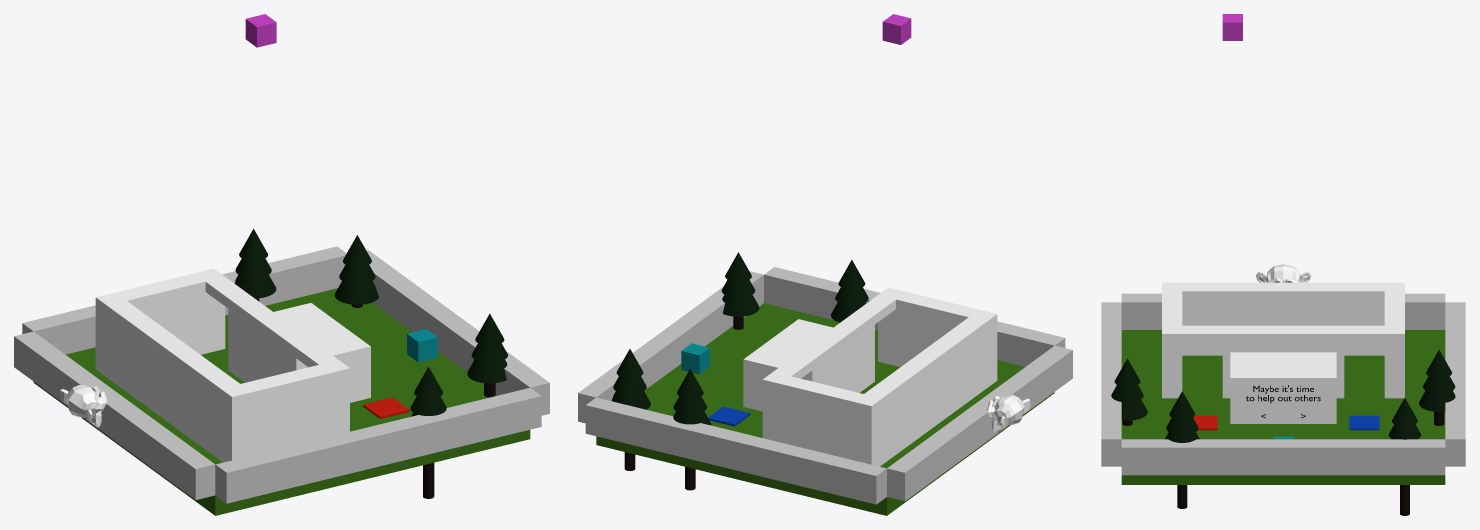
The model's file is world.obj.
3 renders of one model, left to right at view 1: azimuth 30°, elevation 25°; view 2: azimuth 150°, elevation 25°; view 3: azimuth 270°, elevation 25°, orthographic. The views are drawn at different scales.
Parts seen in each view (by area): view 1: Floor.001_Cube.002, Floor.002_Cube.009, Boundary.001_Cube.000, Boundary.002_Cube.005, Floor.003_Cube.012, Boundary.003_Cube.004, Boundary.004_Cube.003, Floor.004_Cube.013, Floor.005_Cube.014, Floor.007_Cube.019, Floor.000_Cube.001, Suzanne (+6 smaller); view 2: Floor.001_Cube.002, Floor.002_Cube.009, Boundary.004_Cube.003, Boundary.002_Cube.005, Floor.004_Cube.013, Boundary.003_Cube.004, Boundary.001_Cube.000, Floor.003_Cube.012, Floor.005_Cube.014, Floor.007_Cube.019, Floor.000_Cube.001, Suzanne (+3 smaller); view 3: Floor.001_Cube.002, Boundary.003_Cube.004, Floor.002_Cube.009, Floor.007_Cube.019, Floor.000_Cube.001, Boundary.001_Cube.000, Boundary.004_Cube.003, Boundary.002_Cube.005, Floor.005_Cube.014, Floor.004_Cube.013, Floor.003_Cube.012, Suzanne (+12 smaller).
Part boxes in pixels (bbox=[...]): Floor.001_Cube.002: bbox=[33, 288, 530, 515]; Floor.002_Cube.009: bbox=[95, 292, 251, 462]; Boundary.001_Cube.000: bbox=[215, 388, 541, 503]; Boundary.002_Cube.005: bbox=[14, 331, 215, 499]; Floor.003_Cube.012: bbox=[241, 360, 349, 455]; Boundary.003_Cube.004: bbox=[366, 250, 549, 415]; Boundary.004_Cube.003: bbox=[22, 246, 346, 354]; Floor.004_Cube.013: bbox=[116, 268, 225, 354]; Floor.005_Cube.014: bbox=[228, 299, 307, 382]; Floor.007_Cube.019: bbox=[273, 303, 370, 402]; Floor.000_Cube.001: bbox=[205, 277, 338, 367]; Suzanne: bbox=[60, 385, 107, 427]; Floor.001_Cube.002: bbox=[596, 303, 1054, 515]; Floor.002_Cube.009: bbox=[853, 309, 997, 466]; Boundary.004_Cube.003: bbox=[585, 397, 886, 504]; Boundary.002_Cube.005: bbox=[887, 345, 1072, 501]; Floor.004_Cube.013: bbox=[762, 372, 863, 459]; Boundary.003_Cube.004: bbox=[578, 271, 763, 423]; Boundary.001_Cube.000: bbox=[764, 267, 1065, 366]; Floor.003_Cube.012: bbox=[878, 287, 978, 366]; Floor.005_Cube.014: bbox=[801, 313, 874, 392]; Floor.007_Cube.019: bbox=[743, 319, 832, 411]; Floor.000_Cube.001: bbox=[773, 295, 895, 378]; Suzanne: bbox=[987, 395, 1030, 433]; Floor.001_Cube.002: bbox=[1121, 330, 1445, 484]; Boundary.003_Cube.004: bbox=[1121, 439, 1445, 475]; Floor.002_Cube.009: bbox=[1162, 282, 1404, 355]; Floor.007_Cube.019: bbox=[1230, 352, 1336, 423]; Floor.000_Cube.001: bbox=[1182, 325, 1384, 343]; Boundary.001_Cube.000: bbox=[1101, 302, 1121, 466]; Boundary.004_Cube.003: bbox=[1445, 302, 1465, 466]; Boundary.002_Cube.005: bbox=[1121, 293, 1445, 329]; Floor.005_Cube.014: bbox=[1222, 325, 1344, 398]; Floor.004_Cube.013: bbox=[1384, 291, 1404, 398]; Floor.003_Cube.012: bbox=[1162, 291, 1182, 398]; Suzanne: bbox=[1256, 264, 1310, 282].
Size of what is drawn, in the model's own units: 19.85 by 22.46 by 18.
